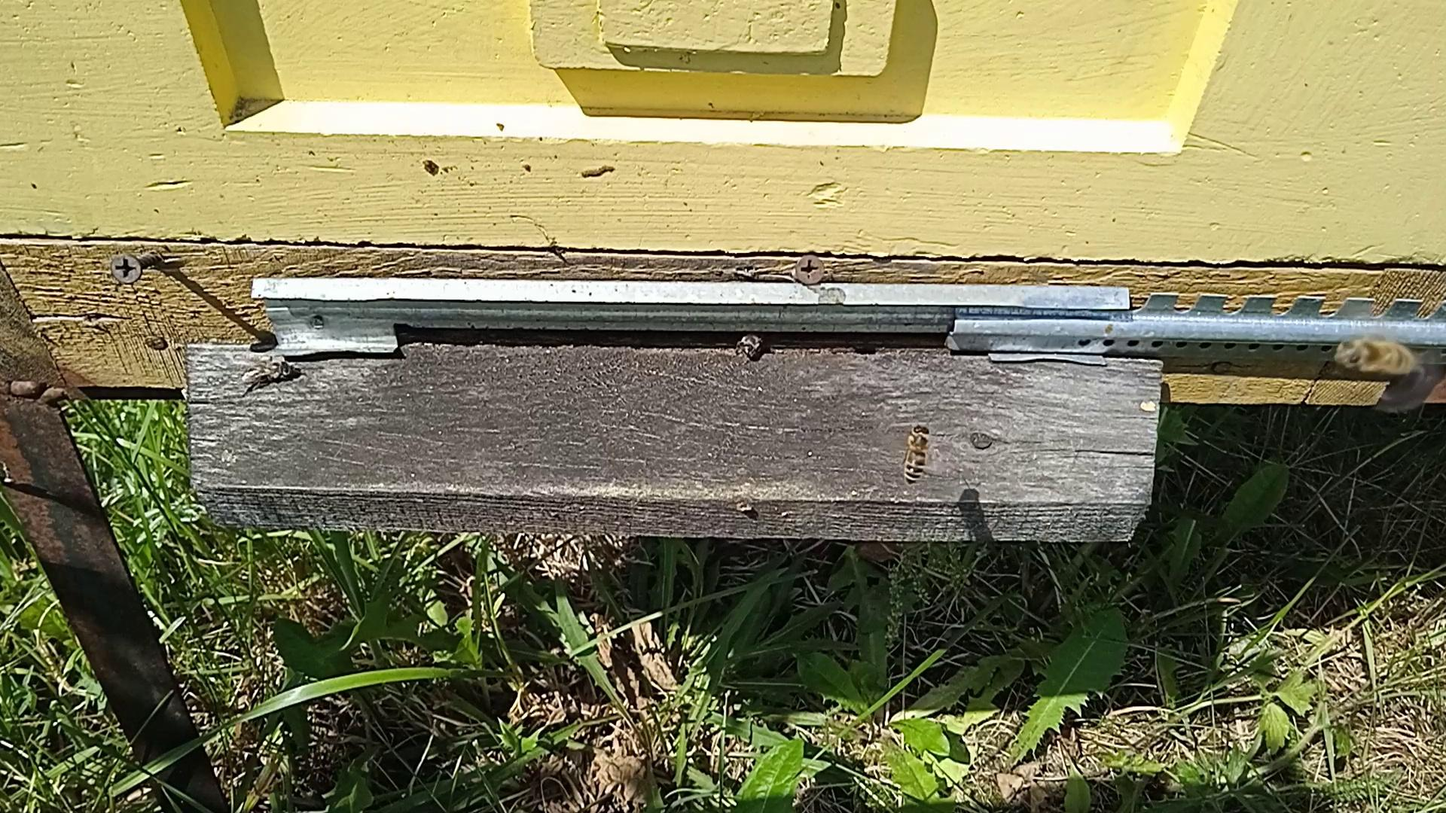worker-bee: (1333, 336, 1421, 379), (901, 423, 932, 485), (239, 355, 291, 391), (736, 330, 766, 358)
